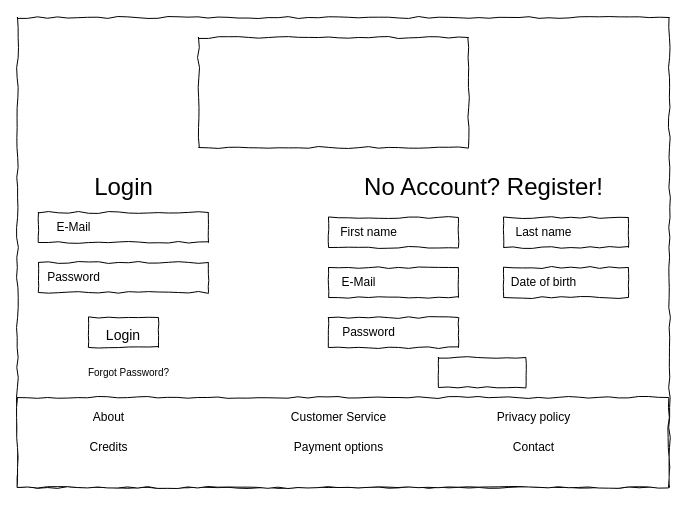
Some shapes in this 687 by 505 pixel diagram are drawn without their labels. Here are the shapes that lost their labels. From the top down, the centre of each, then its label:
At (333,92): "LOGO".
At (482,372): "Register".
